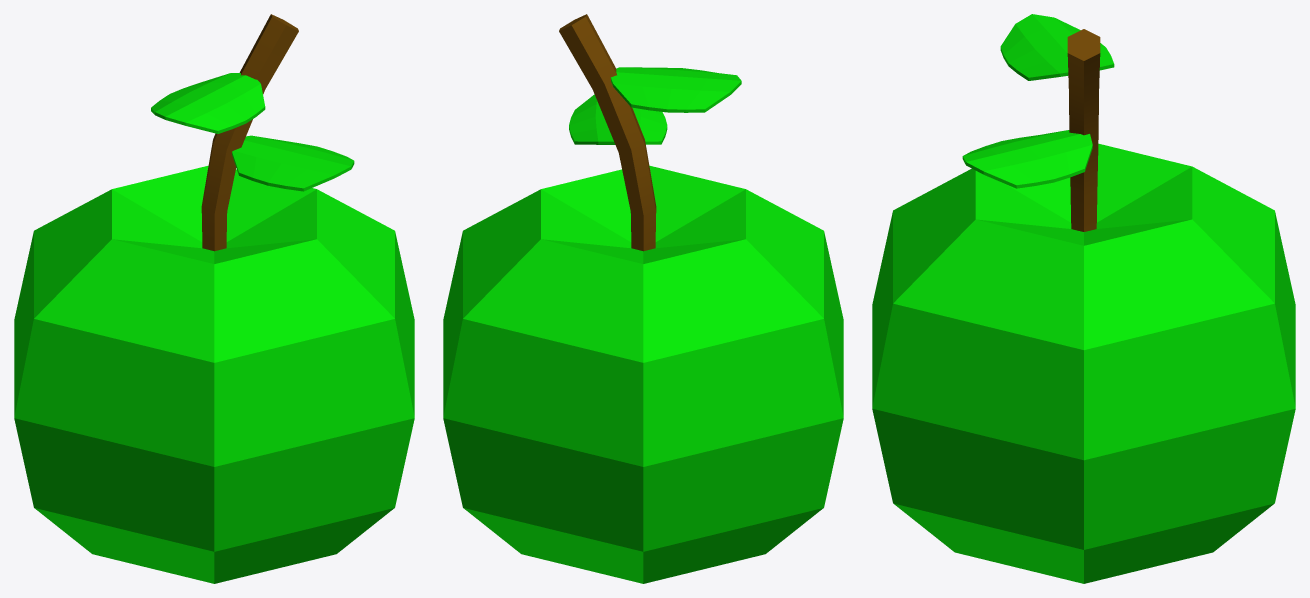
Rendered from Green Aplle.fbx.
3 renders of one model, left to right at view 1: azimuth 30°, elevation 25°; view 2: azimuth 150°, elevation 25°; view 3: azimuth 270°, elevation 25°, orthographic. The views are drawn at different scales.
Visible parts, largest first — view 1: Base, Stem, Leaf1, Leaf; view 2: Base, Stem, Leaf1, Leaf; view 3: Base, Leaf, Stem, Leaf1.
Part boxes in pixels (left/top/right/bottom): Base: left=14, top=165, right=414, bottom=583; Stem: left=201, top=14, right=298, bottom=251; Leaf1: left=151, top=73, right=265, bottom=133; Leaf: left=232, top=135, right=354, bottom=191; Base: left=443, top=165, right=843, bottom=583; Stem: left=559, top=14, right=656, bottom=251; Leaf1: left=610, top=67, right=741, bottom=112; Leaf: left=569, top=94, right=667, bottom=144; Base: left=872, top=143, right=1295, bottom=583; Leaf: left=962, top=130, right=1092, bottom=188; Stem: left=1067, top=29, right=1100, bottom=231; Leaf1: left=1000, top=14, right=1114, bottom=80.
Bounding box in the file's own units: 1.16 × 1.36 × 1.
